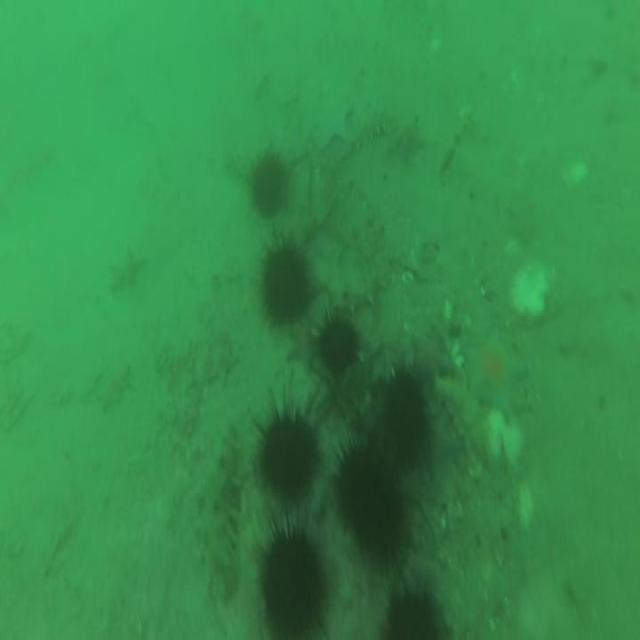echinus: (336, 444, 401, 571), (262, 528, 322, 634), (259, 414, 317, 503), (384, 374, 428, 468), (263, 244, 308, 326), (384, 588, 435, 640), (251, 154, 287, 216), (318, 319, 358, 370)
holothurian: (197, 420, 241, 600), (344, 104, 395, 154)
starfish: (463, 327, 530, 413), (411, 327, 449, 379), (110, 247, 140, 297)
